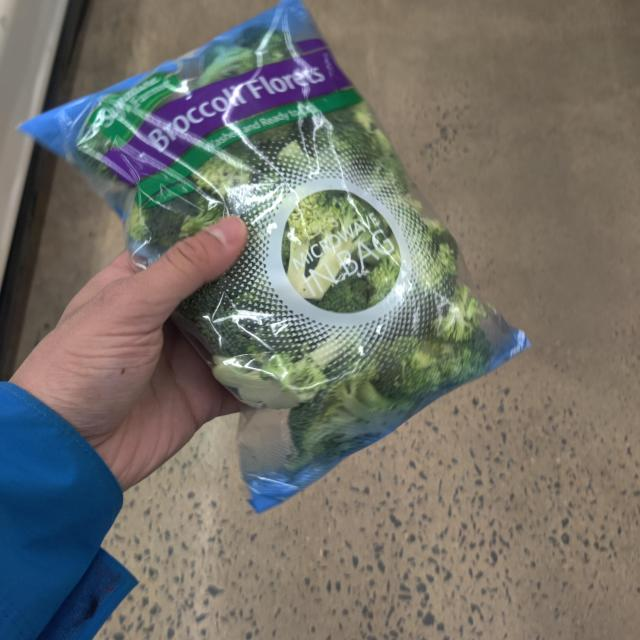Broccoli: (60, 7, 511, 482)
